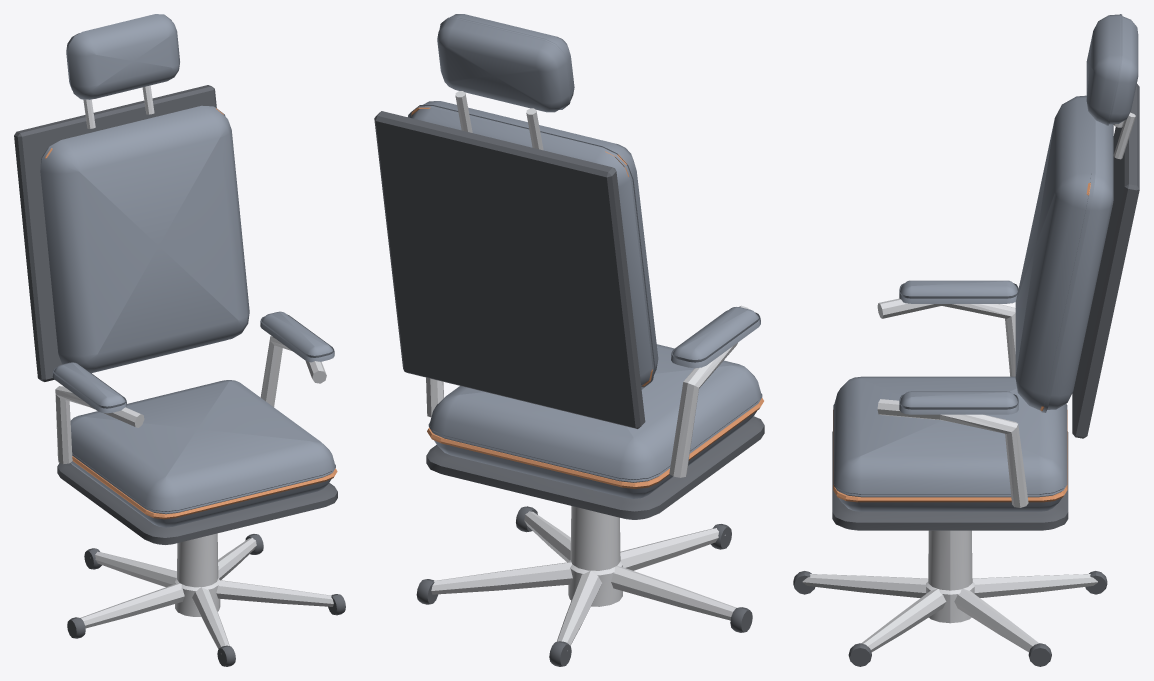
Rendered from executive-chair.glb.
3 renders of one model, left to right at view 1: azimuth 30°, elevation 25°; view 2: azimuth 150°, elevation 25°; view 3: azimuth 270°, elevation 25°, orthographic. The views are drawn at different scales.
Visible parts, largest first — view 1: executive-chair; view 2: executive-chair; view 3: executive-chair.
Boxes of the visible parts, x1,y1,x2,y2 form: executive-chair: [14, 14, 345, 666]; executive-chair: [374, 14, 764, 666]; executive-chair: [793, 14, 1139, 666].
Bounding box in the file's own units: 0.7035 × 1.46 × 0.7925.
